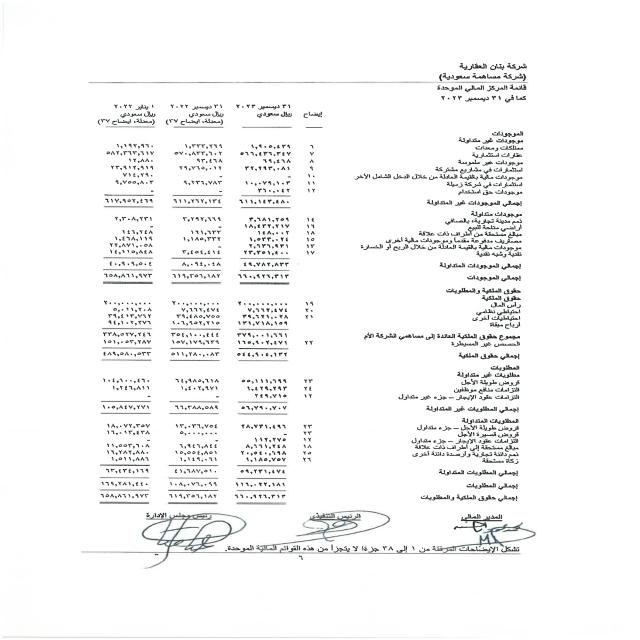financial_sheets: (436, 86, 532, 93)
table: (49, 87, 332, 513)
